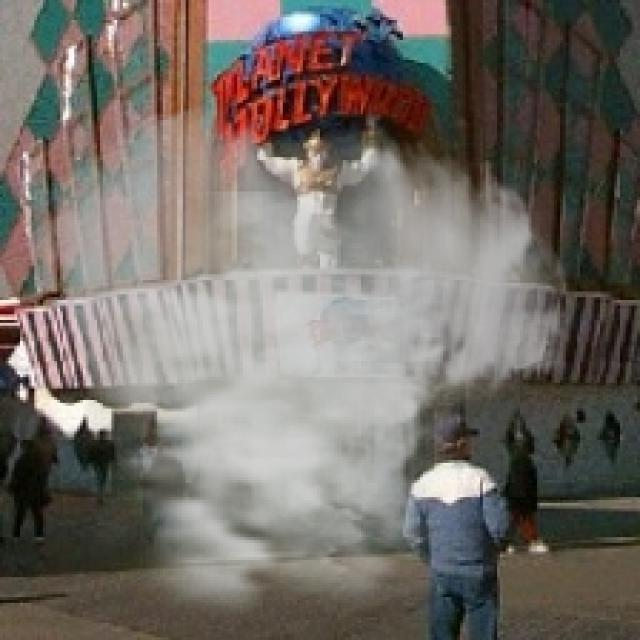Smoke: (34, 102, 577, 638)
